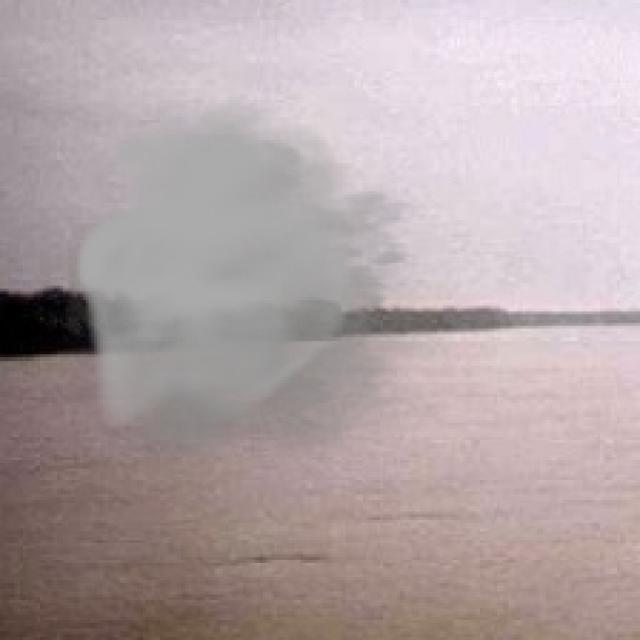Smoke: (68, 94, 454, 477)
